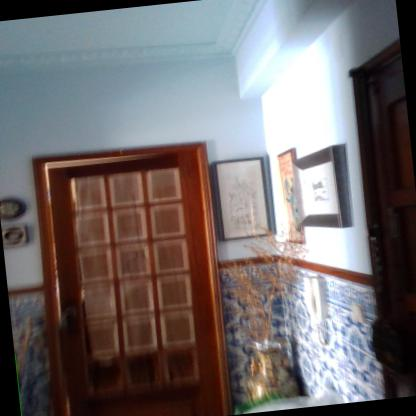closed: (24, 133, 254, 415)
